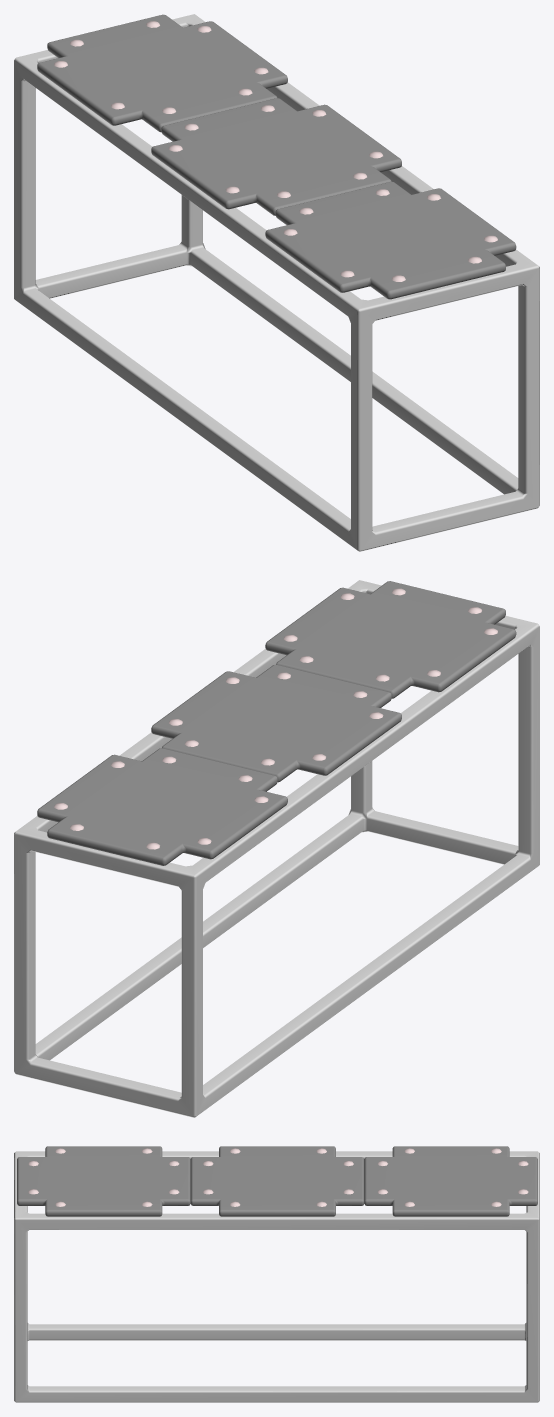
Rendered from platform_014.fbx.
The picture shows the model from 3 angles, top to bottom: view 1: azimuth 30°, elevation 25°; view 2: azimuth 150°, elevation 25°; view 3: azimuth 270°, elevation 25°; orthographic projection. The views are drawn at different scales.
Visible parts, largest first — view 1: platform_014; view 2: platform_014; view 3: platform_014.
Part boxes in pixels (x1,y1,x2,y2): platform_014: (14, 14, 539, 551); platform_014: (14, 580, 539, 1117); platform_014: (14, 1146, 539, 1402).
Size of the model in its own units: 251 by 821 by 334.
